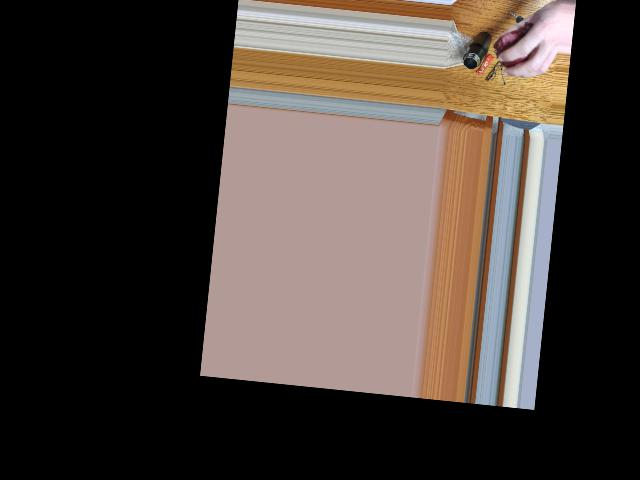onion: (497, 30, 533, 69)
